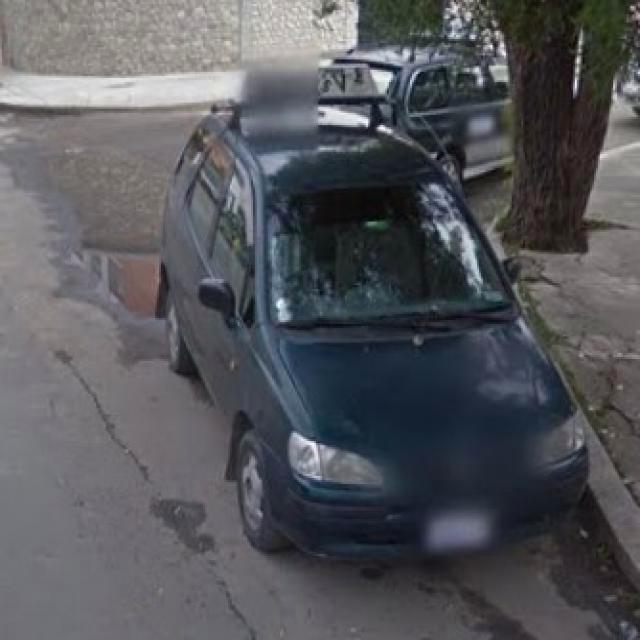Car: (163, 124, 572, 582)
